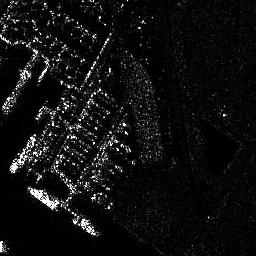ship: (8, 132, 35, 173), (27, 186, 59, 212)
